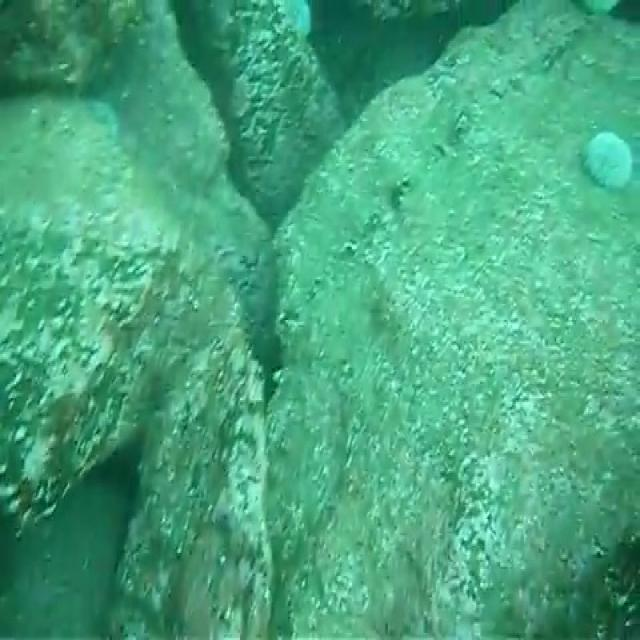Deniz Kestanesi: (579, 115, 640, 193)
